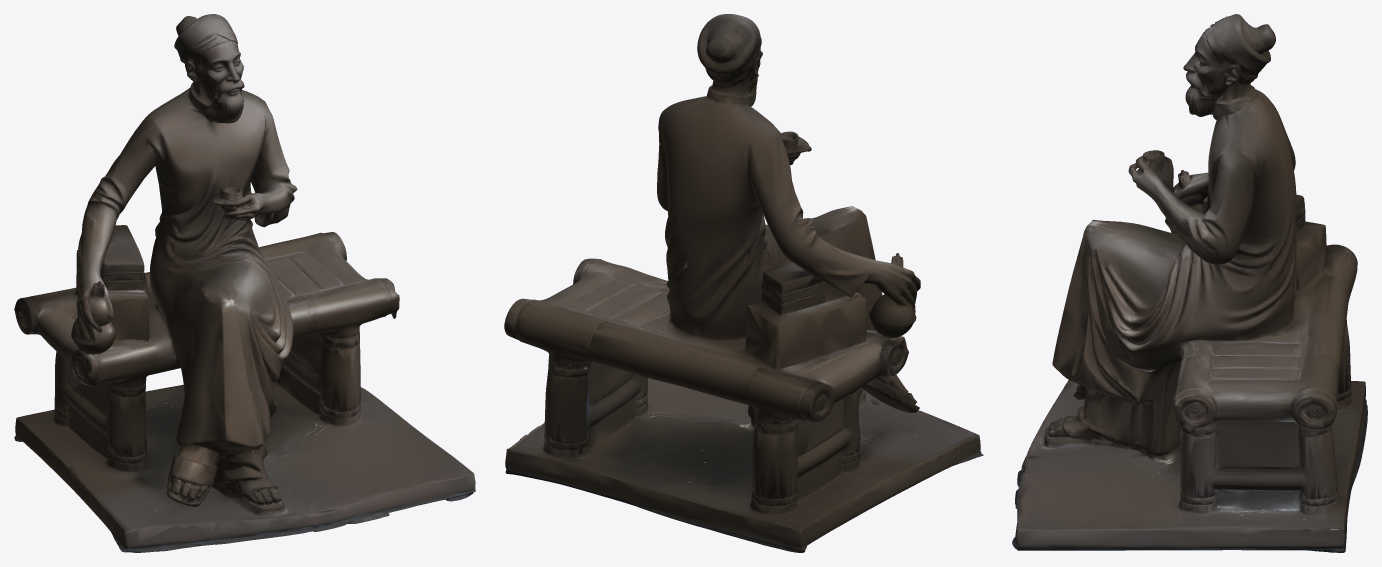
File: nguyen-khuyen.glb
3 views of the same model, side by side, from view 1: azimuth 30°, elevation 25°; view 2: azimuth 150°, elevation 25°; view 3: azimuth 270°, elevation 25° (orthographic). The views are drawn at different scales.
Visible parts, largest first — view 1: node_0; view 2: node_0; view 3: node_0.
Boxes of the visible parts, x1,y1,x2,y2 form: node_0: (14, 14, 475, 552); node_0: (504, 14, 983, 552); node_0: (1012, 14, 1367, 552).
Bounding box in the file's own units: 0.6678 × 0.844 × 0.5984.
Materials: 1 (1 with a texture image).
